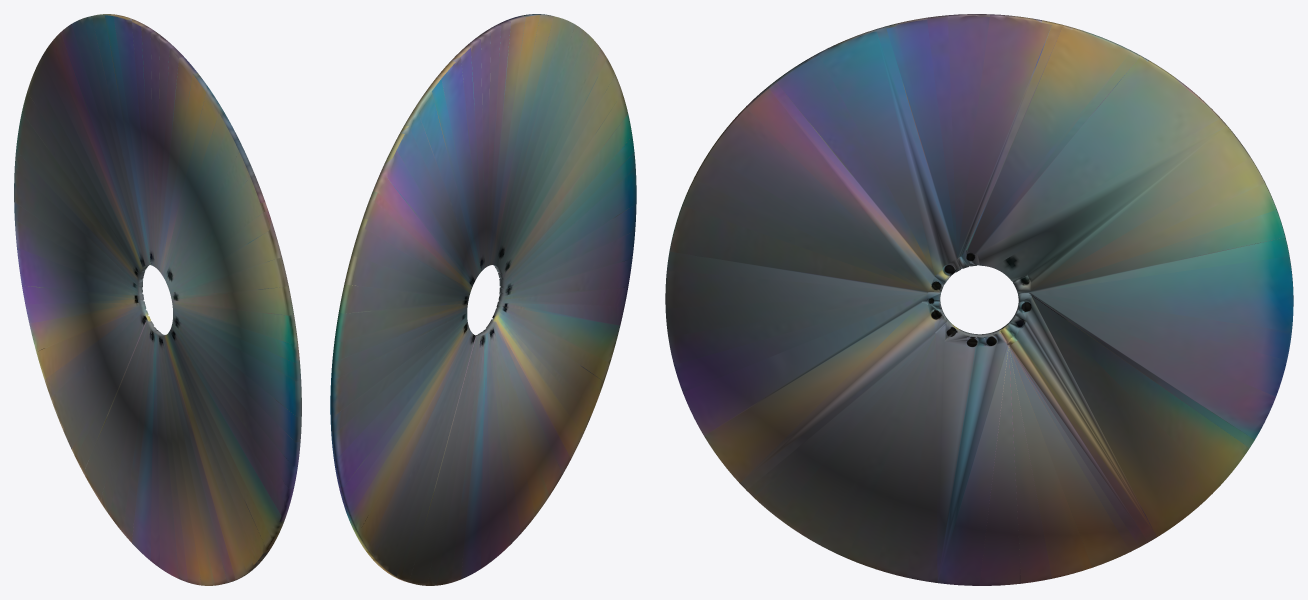
Rendered from cd-rom.glb.
3 renders of one model, left to right at view 1: azimuth 30°, elevation 25°; view 2: azimuth 150°, elevation 25°; view 3: azimuth 270°, elevation 25°, orthographic. The views are drawn at different scales.
Visible parts, largest first — view 1: tripo_node_66ecf638-d78a-4429-bad0-786a0f70fa57; view 2: tripo_node_66ecf638-d78a-4429-bad0-786a0f70fa57; view 3: tripo_node_66ecf638-d78a-4429-bad0-786a0f70fa57.
Boxes of the visible parts, box(x1,y1,x2,y2) form: tripo_node_66ecf638-d78a-4429-bad0-786a0f70fa57: box(14, 14, 301, 585); tripo_node_66ecf638-d78a-4429-bad0-786a0f70fa57: box(330, 14, 636, 585); tripo_node_66ecf638-d78a-4429-bad0-786a0f70fa57: box(665, 14, 1293, 585).
Size of the model in its own units: 0.0275 by 1 by 1.
Materials: 1 (1 with a texture image).
